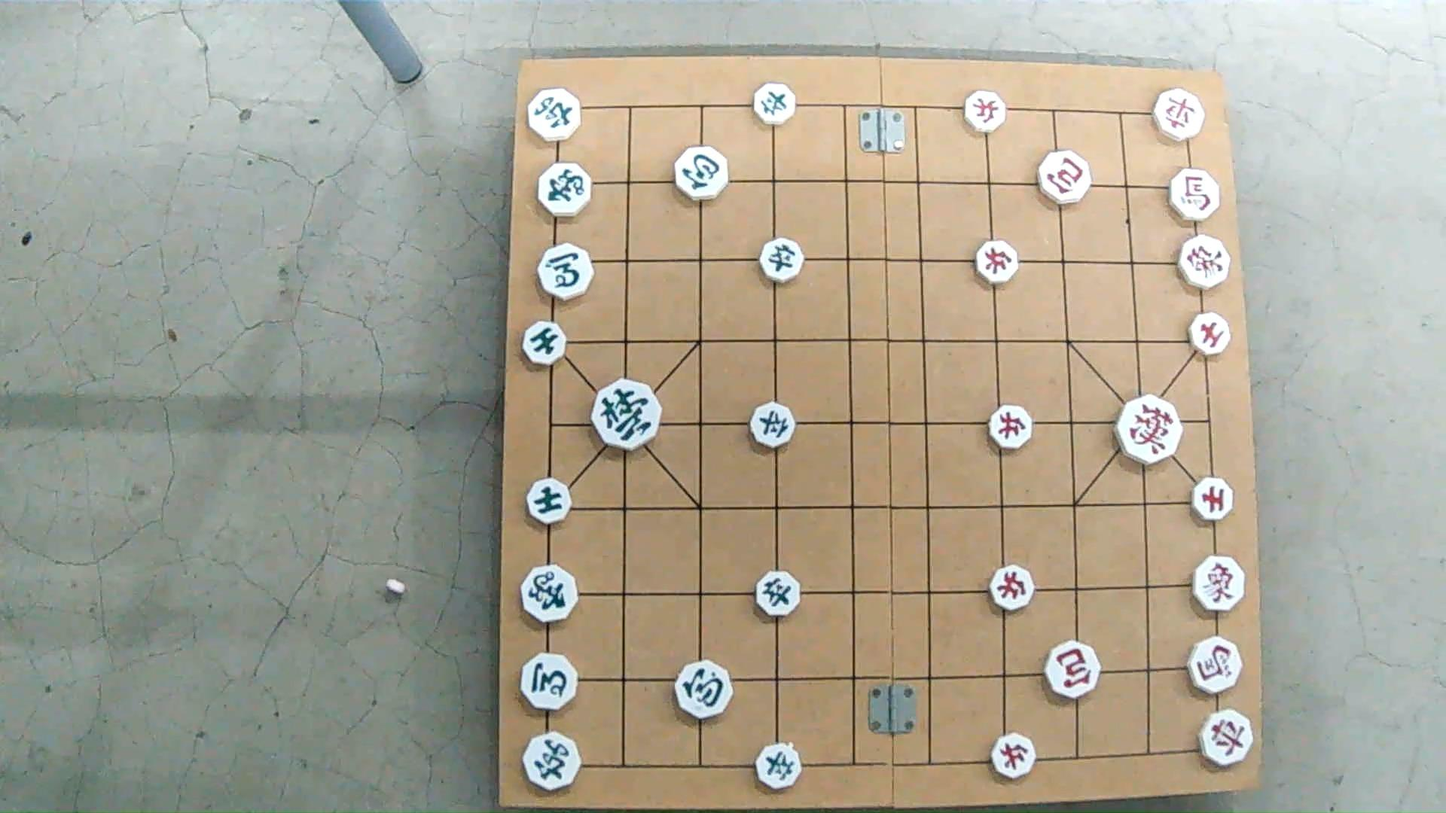cha_green: (524, 735, 581, 790), (527, 87, 583, 139)
cha_red: (1155, 91, 1207, 142), (1202, 709, 1252, 762)
jol_green: (749, 400, 793, 451), (756, 741, 803, 786), (757, 238, 803, 280), (758, 570, 802, 611), (754, 84, 798, 124)
jol_red: (991, 566, 1037, 610), (991, 736, 1038, 779), (990, 408, 1035, 450), (972, 243, 1017, 285), (961, 93, 1005, 134)
ma_green: (521, 653, 578, 708), (540, 246, 593, 299)
ma_red: (1187, 635, 1241, 690), (1170, 168, 1222, 219)
po_green: (671, 660, 732, 717), (674, 149, 728, 196)
po_red: (1043, 644, 1100, 699), (1036, 153, 1090, 203)
sa_green: (527, 480, 574, 524), (524, 320, 565, 364)
sa_red: (1187, 315, 1230, 357), (1193, 478, 1232, 517)
sang_green: (520, 565, 578, 623), (537, 160, 591, 217)
sang_red: (1191, 557, 1246, 611), (1175, 239, 1230, 288)
wang_green: (590, 379, 664, 449)
wang_red: (1118, 400, 1184, 464)
